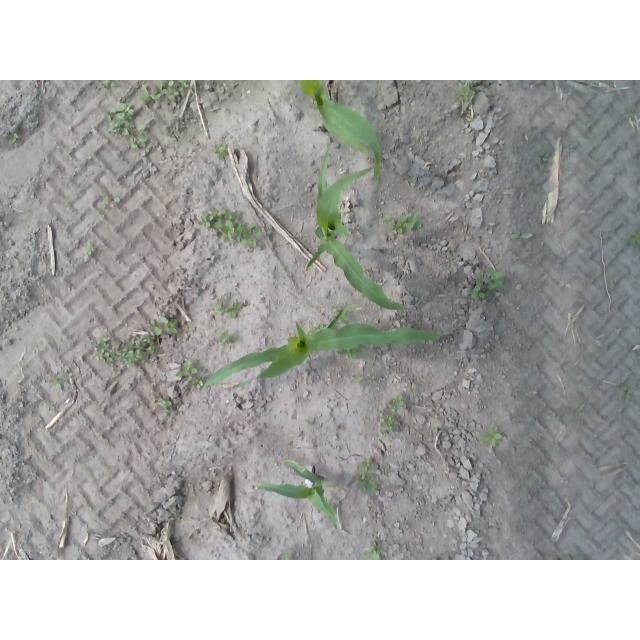Maize: (199, 307, 442, 386), (306, 150, 411, 310), (300, 80, 381, 180), (255, 460, 337, 521)
Weeds: (203, 208, 258, 248), (92, 341, 157, 368), (141, 81, 187, 104), (356, 460, 381, 492), (109, 102, 133, 134), (392, 210, 419, 234), (477, 266, 503, 290), (152, 317, 179, 336), (213, 301, 243, 318), (379, 410, 402, 432), (179, 360, 198, 381), (481, 427, 503, 445), (212, 331, 239, 342), (364, 540, 380, 558), (461, 85, 476, 104), (132, 132, 148, 149), (465, 283, 484, 297), (387, 394, 405, 408), (512, 230, 532, 242), (157, 395, 173, 409), (5, 131, 20, 145), (210, 144, 226, 156), (103, 196, 121, 205), (83, 244, 93, 260), (541, 151, 552, 165), (631, 230, 640, 245), (56, 378, 69, 388), (350, 374, 362, 383), (104, 80, 116, 86)
